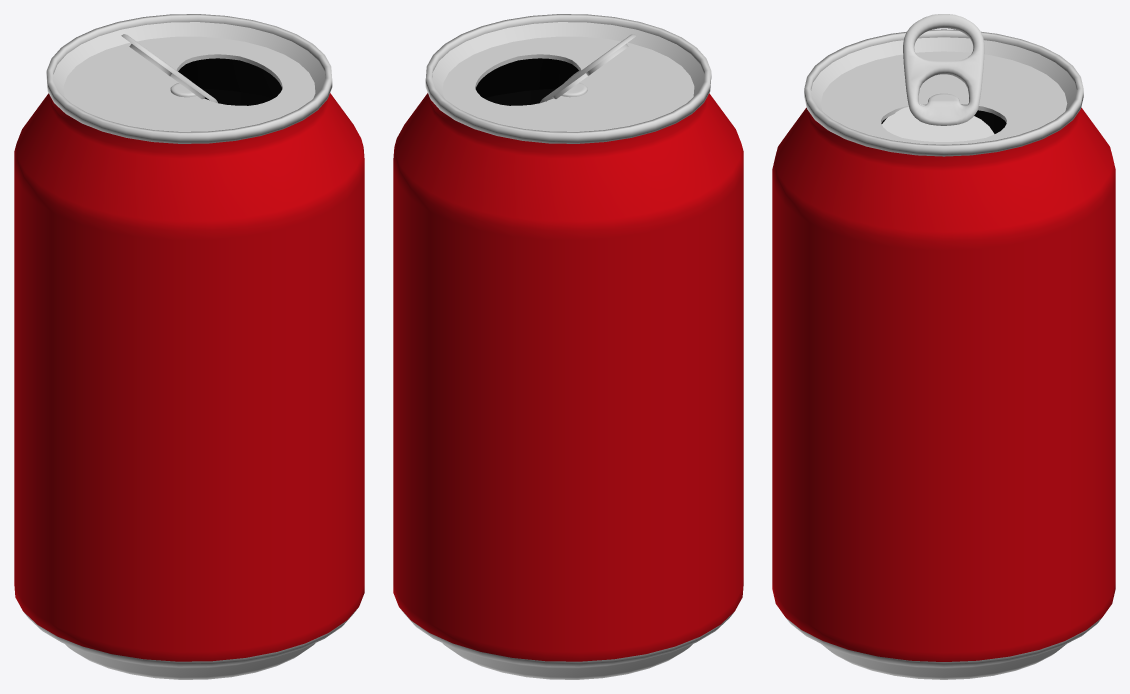
The model's file is soda.fbx.
The picture shows the model from 3 angles, left to right: view 1: azimuth 30°, elevation 25°; view 2: azimuth 150°, elevation 25°; view 3: azimuth 270°, elevation 25°; orthographic projection. The views are drawn at different scales.
Visible parts, largest first — view 1: Cylinder; view 2: Cylinder; view 3: Cylinder.
Boxes of the visible parts, bbox=[...] form: Cylinder: bbox=[14, 14, 364, 679]; Cylinder: bbox=[393, 14, 743, 679]; Cylinder: bbox=[772, 14, 1115, 679].
Size of the model in its own units: 200 by 376 by 200.
